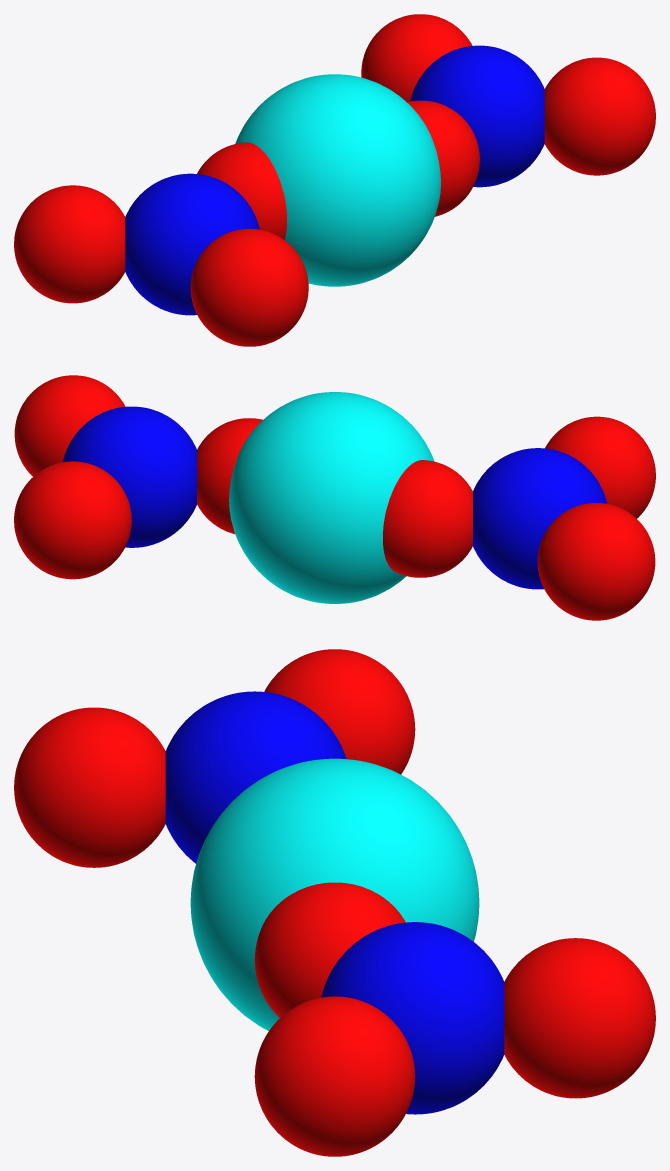
3 views of the same model, one above another, from view 1: azimuth 30°, elevation 25°; view 2: azimuth 150°, elevation 25°; view 3: azimuth 270°, elevation 25° (orthographic). The views are drawn at different scales.
Parts seen in each view (by area): view 1: Ca, N2, N1, O2_1, O1_2, O2_2, O1_1, O2_3, O1_3; view 2: Ca, N1, N2, O1_1, O2_2, O2_3, O2_1, O1_2, O1_3; view 3: Ca, N1, O1_2, O1_1, O2_1, N2, O1_3, O2_2.
Boxes of the visible parts, x1,y1,x2,y2 form: Ca: (235,74,440,286); N2: (125,173,259,315); N1: (410,45,544,187); O2_1: (190,228,308,346); O1_2: (544,57,655,175); O2_2: (14,185,125,303); O1_1: (361,14,472,101); O2_3: (197,142,286,239); O1_3: (407,100,479,216); Ca: (229,392,434,603); N1: (63,406,197,547); N2: (473,448,606,589); O1_1: (14,461,131,579); O2_2: (537,503,655,620); O2_3: (383,460,472,577); O2_1: (545,416,655,518); O1_2: (14,375,125,476); O1_3: (197,418,262,533); Ca: (190,758,479,1030); N1: (321,922,504,1114); O1_2: (254,996,415,1156); O1_1: (504,938,655,1098); O2_1: (14,707,165,867); N2: (165,691,346,863); O1_3: (254,882,405,1017); O2_2: (264,649,415,774).
Size of the model in its own units: 6.12 by 1.8 by 4.
